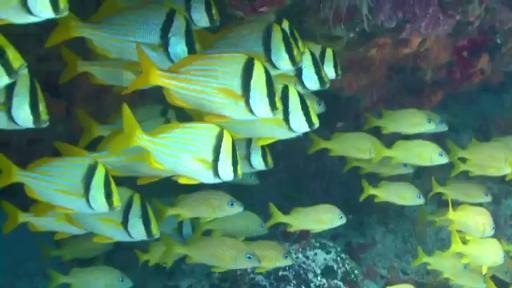Fish: (124, 48, 281, 120), (98, 104, 241, 183), (45, 4, 200, 62), (0, 155, 120, 212), (214, 85, 319, 144), (204, 22, 302, 72), (70, 188, 159, 243), (54, 142, 168, 177), (89, 0, 220, 28), (163, 236, 261, 271), (60, 47, 139, 87), (2, 202, 87, 239), (0, 70, 49, 129), (86, 36, 173, 69), (156, 190, 243, 221), (446, 229, 505, 274), (429, 199, 495, 237), (273, 49, 329, 92), (265, 203, 346, 232), (364, 108, 447, 134), (308, 132, 384, 159), (41, 233, 113, 261), (195, 211, 267, 239), (374, 140, 449, 166), (76, 108, 122, 147), (49, 266, 133, 287), (448, 140, 511, 167), (360, 180, 425, 205), (429, 177, 491, 203), (0, 0, 69, 23), (244, 240, 292, 272), (0, 34, 27, 88), (304, 41, 341, 79), (412, 247, 463, 273), (343, 158, 415, 176), (236, 139, 273, 173), (451, 160, 511, 180), (135, 240, 166, 266), (488, 256, 511, 283), (304, 92, 326, 114), (229, 173, 259, 185)
